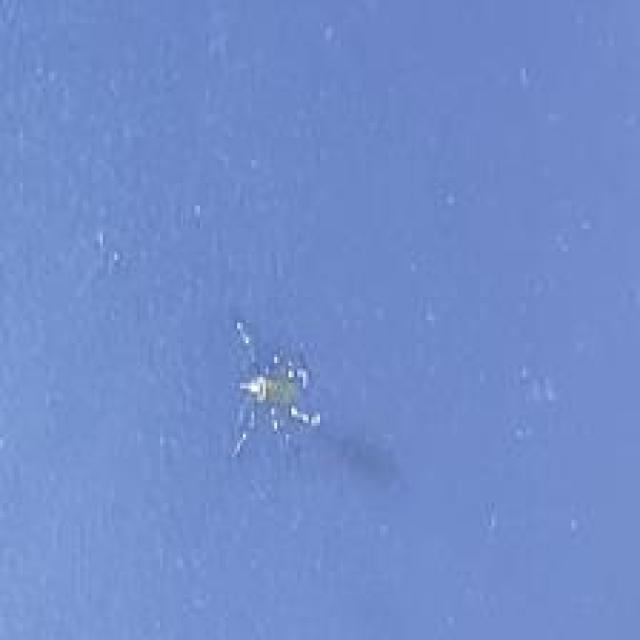Aedes albopictus: (226, 318, 323, 458)
